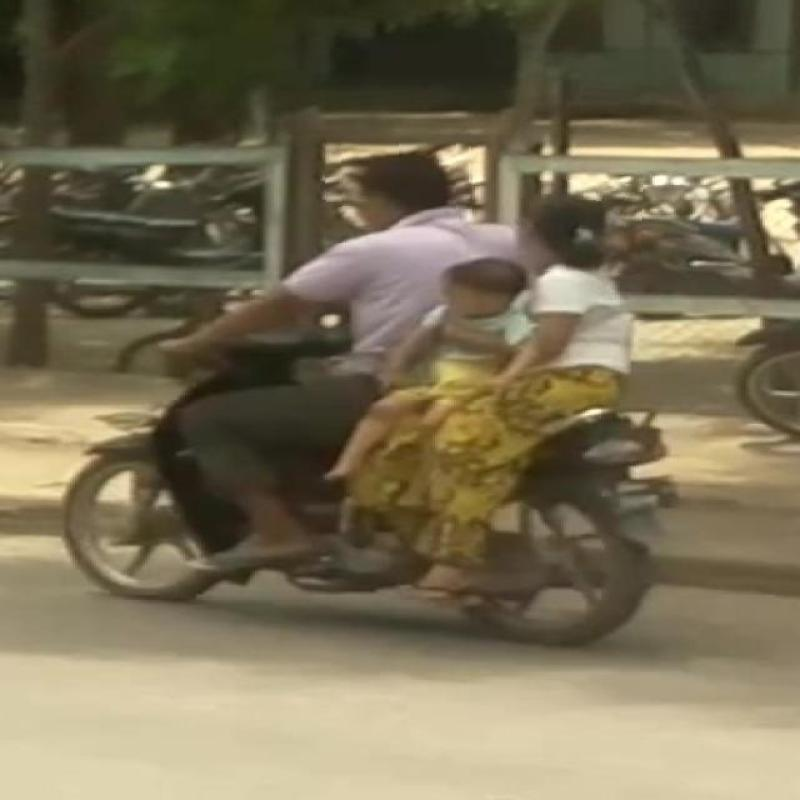nohelmet: (326, 132, 473, 242), (519, 182, 643, 274)
